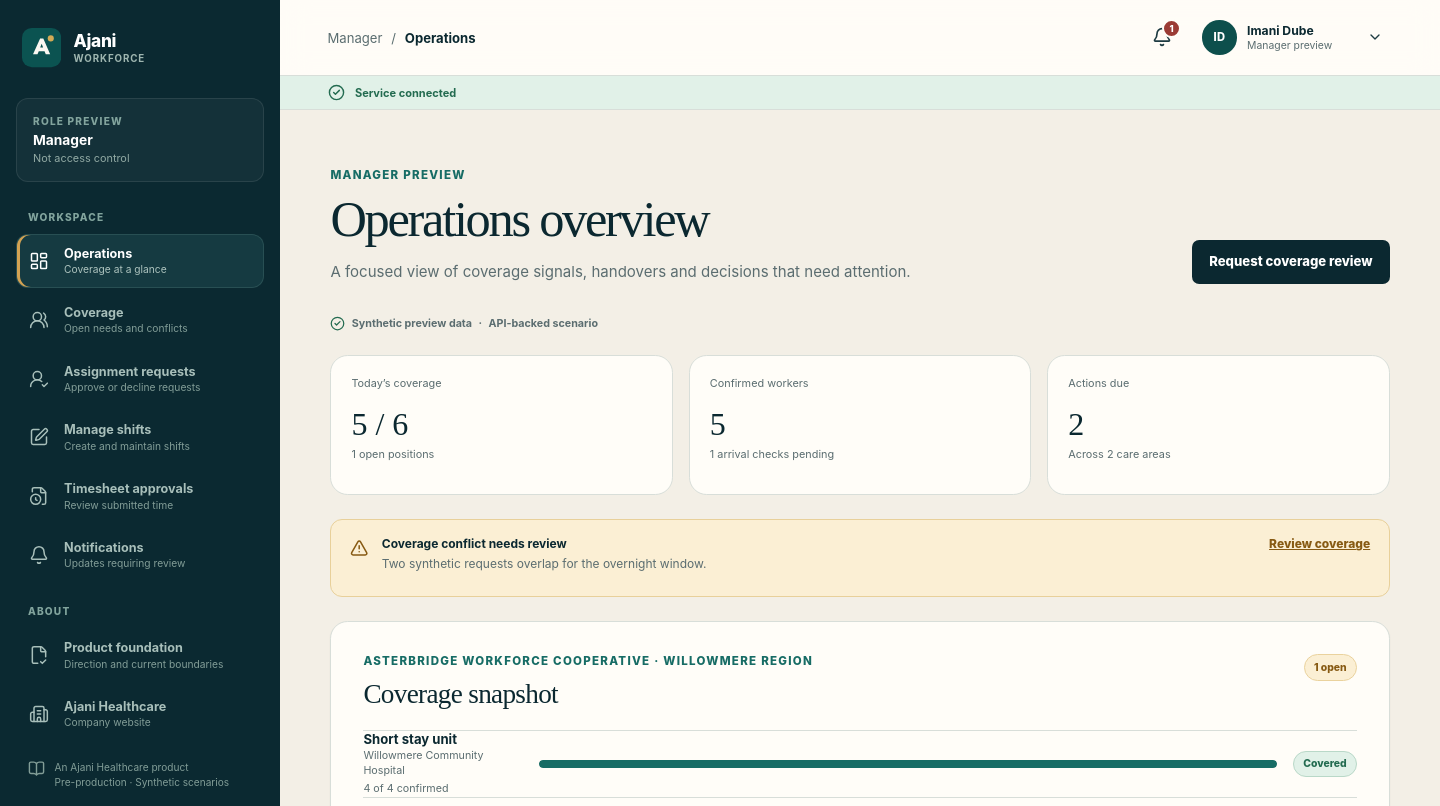
Test case: Ajani application shell › preserves the accessible native priority selector
Click the button "Request coverage review" at (1291, 262), box [1192, 240, 1390, 284]
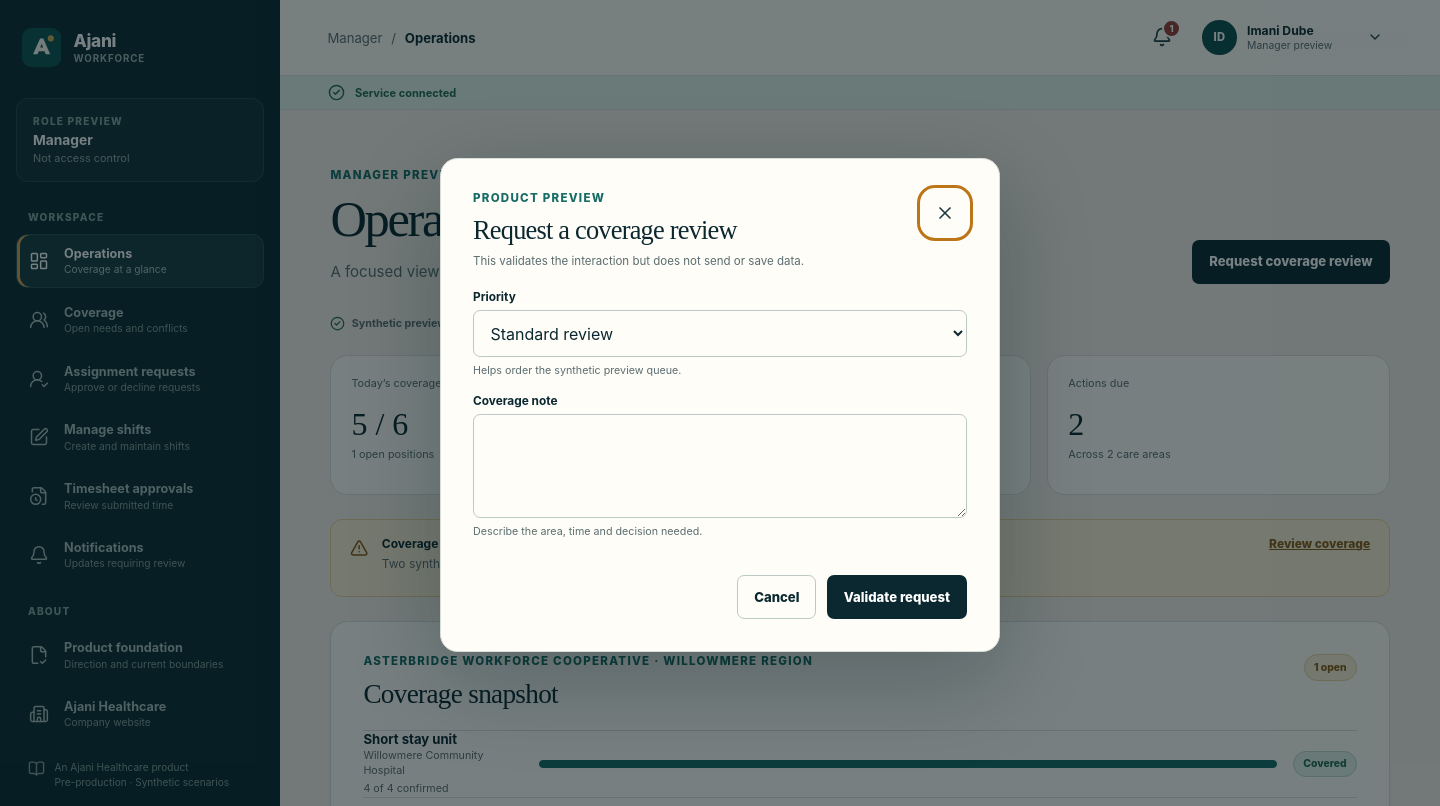
Now the dropdown labelled "Priority" shows "Standard review", box [473, 310, 967, 357]
